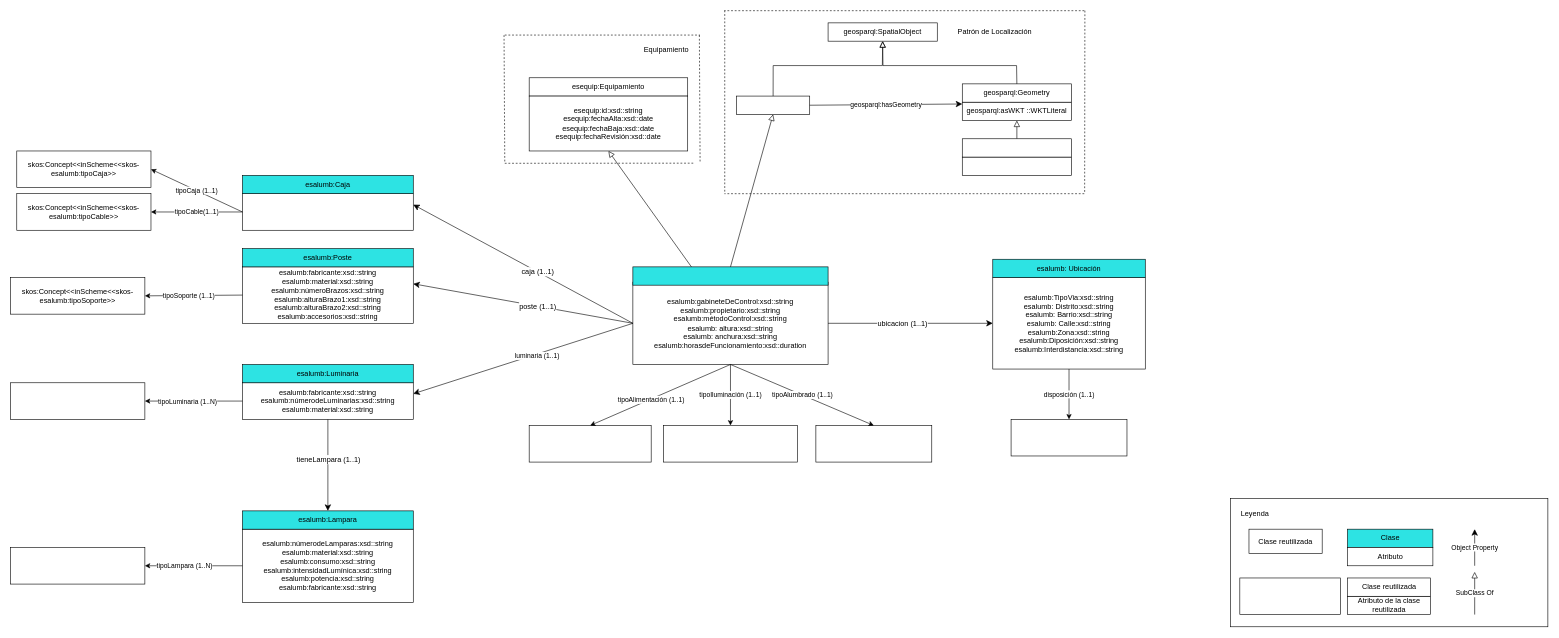
Image size: 1559x638. Some labels were removed from this diagram. The shapes that lost their labels are listed below. From the top down, each one's centre as x and y in pixels, then its label:
At [773,104]: "geosparql:Feature".
At [1016,147]: "geosparql:Point".
At [1016,165]: "geo:Latitude geo:Longitude".
At [327,211]: "esalumb:fabricantes:xsd::string esalumb:material:xsd::string".
At [730,275]: "esalumb:Farola".
At [77,400]: "skos:Concept<<inScheme<<skos-esalumb:tipoLuminaria>>".
At [590,443]: "skos:Concept<<inScheme<<skos-esalumb:tipoAlimentacion>>".
At [730,443]: "skos:Concept<<inScheme<<skos-esalumb:tipoIluminacion>>".
At [873,443]: "skos:Concept<<inScheme <<skos-esalumb:tipoAlumbrado>>".
At [1068,437]: "skos:Concept<<inScheme <<skos-esalumb:Disposición>>".
At [77,565]: "skos:Concept<<inScheme<<skos-esalumb:tipoLampara>>".
At [1289,596]: "skos:Concept <<inScheme schemename>>".
